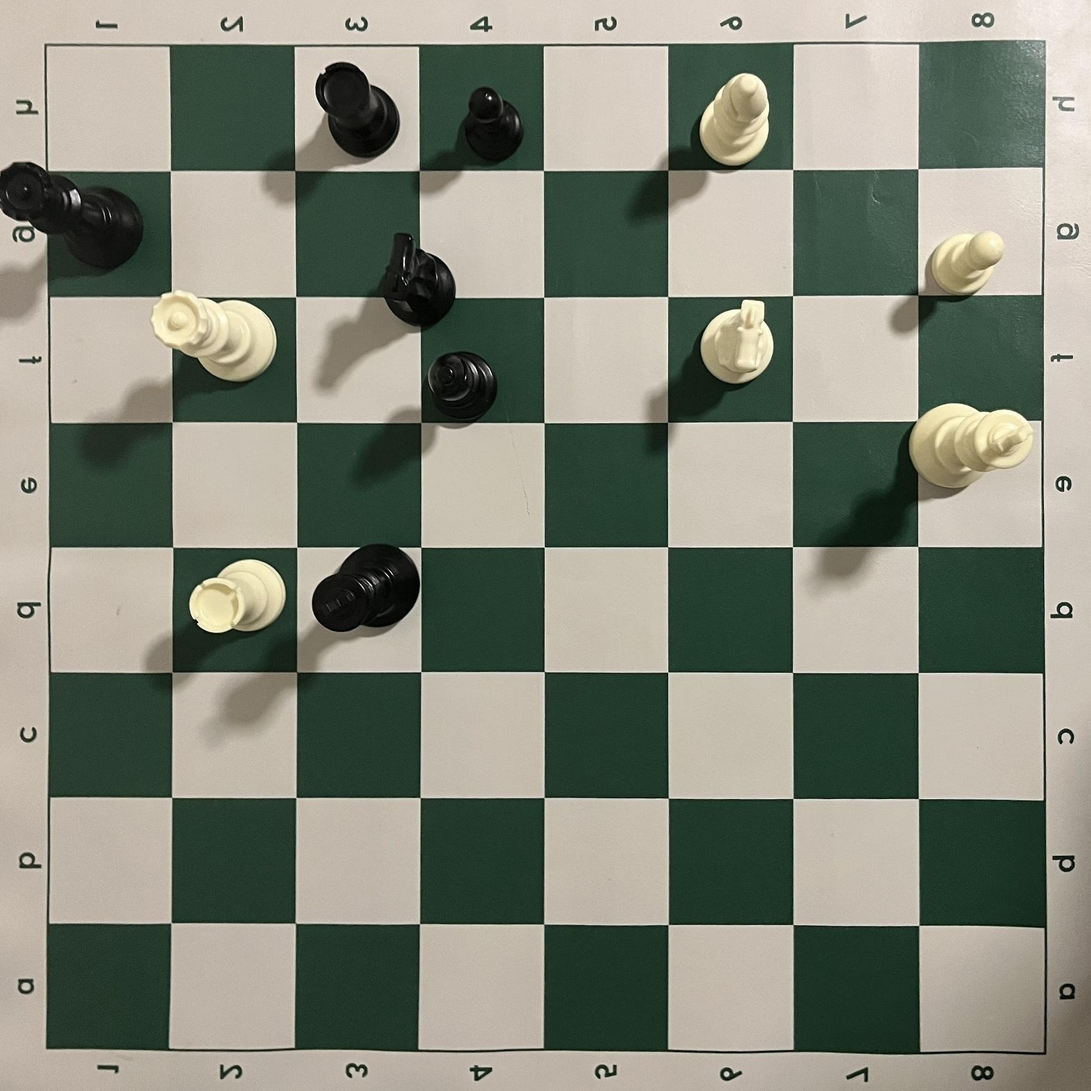black_bishop: (428, 351, 499, 421)
black_king: (310, 542, 422, 633)
black_knight: (380, 232, 457, 327)
black_pawn: (464, 86, 524, 160)
black_queen: (0, 160, 144, 269)
black_rook: (315, 61, 400, 158)
white_bishop: (699, 72, 770, 166)
white_king: (907, 402, 1036, 489)
white_knight: (699, 299, 774, 385)
white_pawn: (926, 230, 1006, 296)
white_queen: (150, 290, 277, 382)
white_rook: (188, 558, 287, 634)
